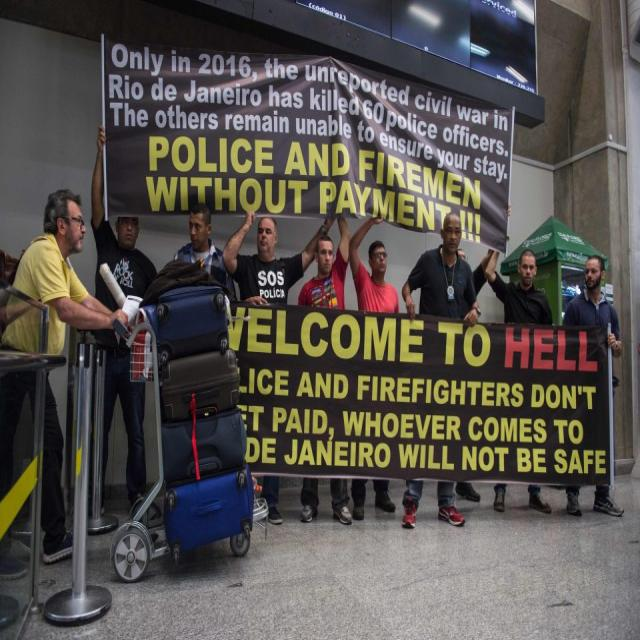body: (0, 187, 130, 581), (220, 194, 339, 528), (86, 120, 162, 522), (397, 209, 482, 532), (483, 246, 554, 516), (296, 207, 353, 526), (455, 201, 512, 504), (563, 252, 625, 518), (348, 210, 400, 523), (172, 203, 237, 304)
